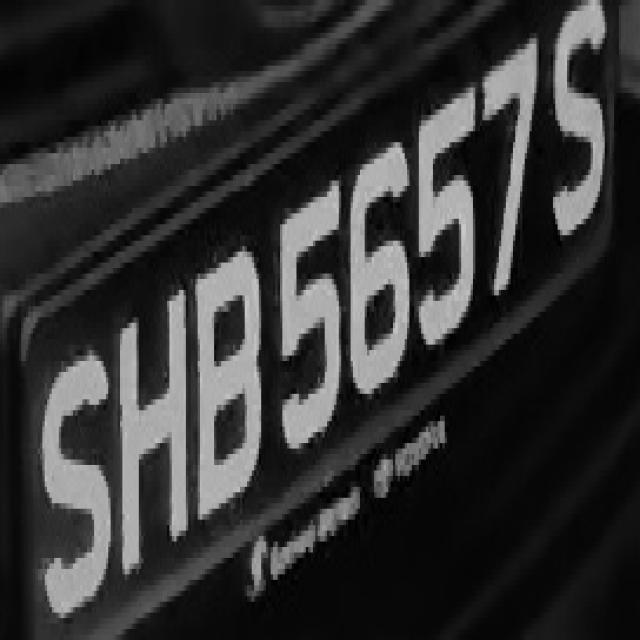5: (405, 82, 489, 356), (273, 197, 353, 454)
6: (341, 142, 414, 416)
7: (473, 44, 546, 306)
B: (188, 240, 271, 542)
H: (113, 279, 191, 574)
S: (38, 339, 115, 613), (546, 0, 616, 257)
